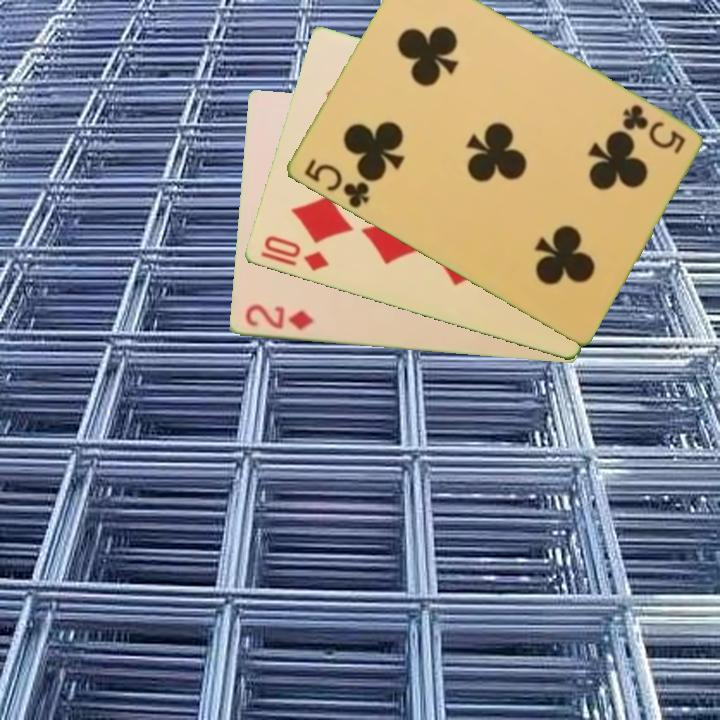10d: (259, 232, 331, 275)
2d: (241, 301, 316, 334)
5c: (300, 155, 372, 212), (618, 101, 688, 157)
